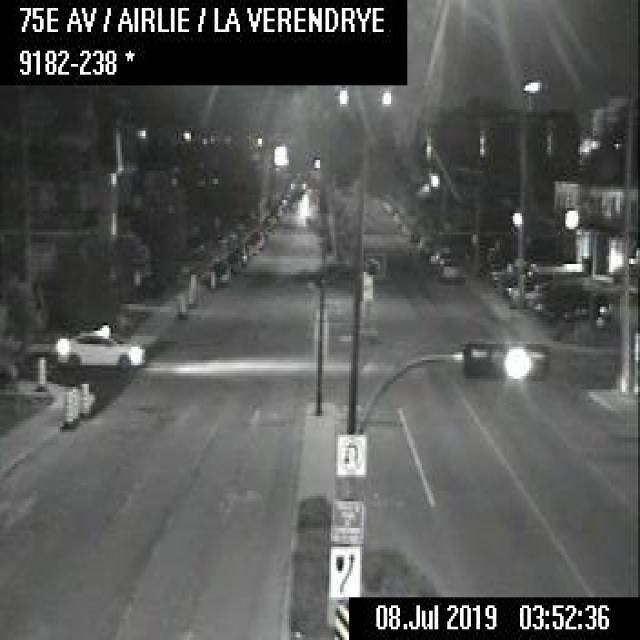construction: (60, 383, 72, 424), (186, 271, 198, 308), (35, 354, 46, 384), (79, 380, 88, 414), (70, 383, 78, 419), (177, 290, 186, 314), (207, 267, 215, 285)
vehicle: (54, 322, 144, 368), (436, 257, 462, 280), (207, 255, 229, 280)
